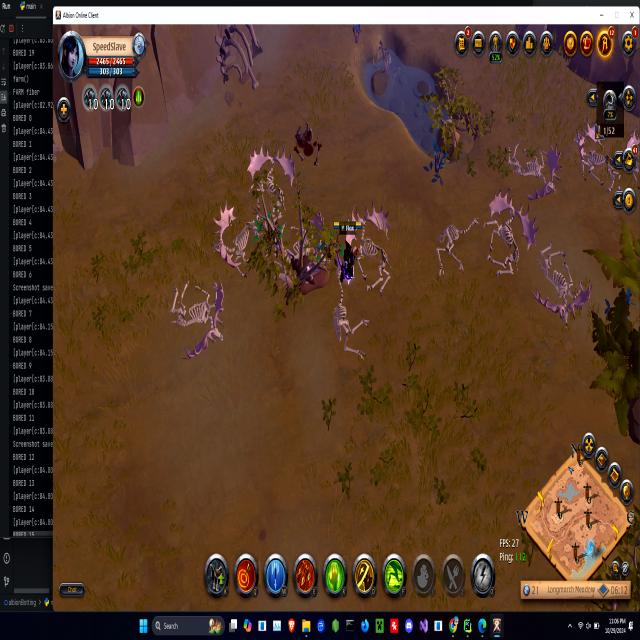mob: (274, 236, 332, 298)
red: (336, 220, 360, 282)
